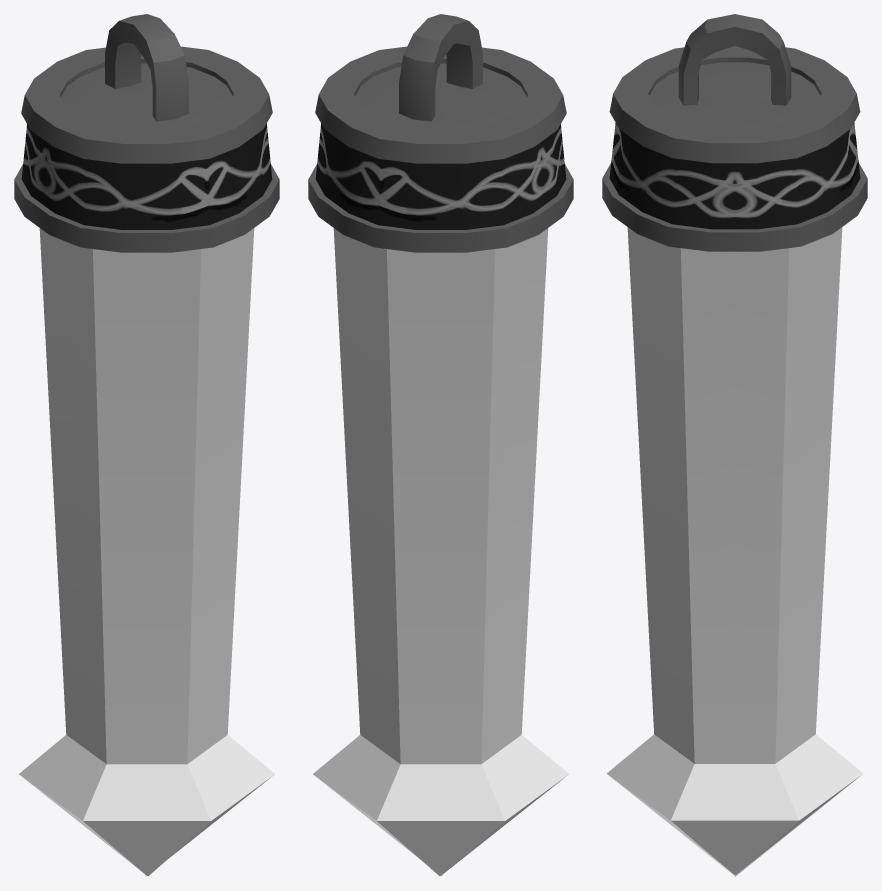
The model's file is vial.fbx.
3 renders of one model, left to right at view 1: azimuth 30°, elevation 25°; view 2: azimuth 150°, elevation 25°; view 3: azimuth 270°, elevation 25°, orthographic.
Visible parts, largest first — view 1: vial; view 2: vial; view 3: vial.
Part boxes in pixels (x1,y1,x2,y2): vial: (14,14,279,876); vial: (308,14,573,876); vial: (602,14,867,876).
Bounding box in the file's own units: 4.37 × 16.22 × 4.56.
4 materials, 1 textured.
